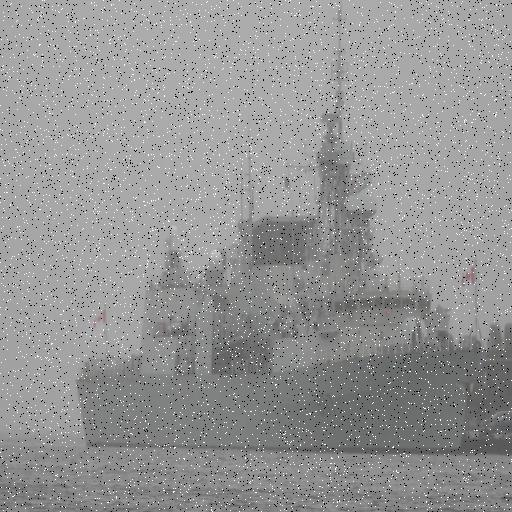Fragata: (74, 1, 494, 460)
